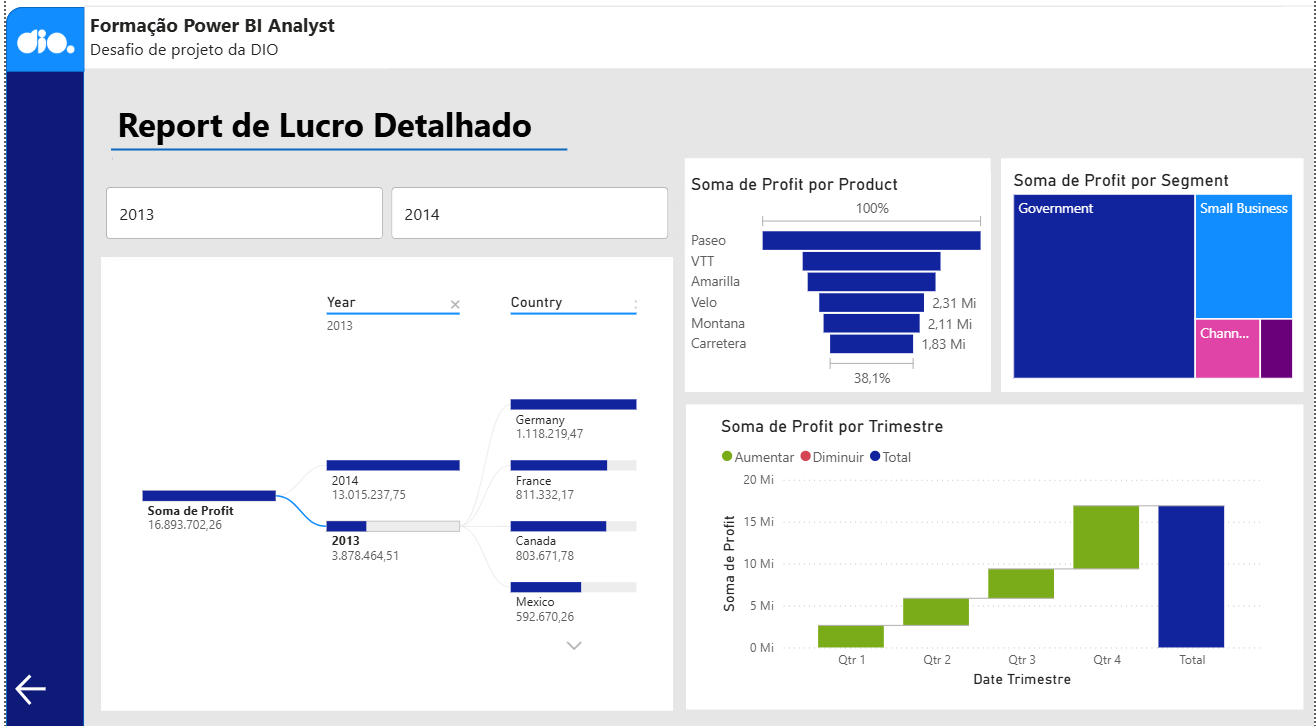

This screenshot's page, from the dashboard's own definition file:
{"tool":"powerbi","page":{"name":"Página 2","canvas":[1280,720],"ordinal":1},"visuals":[{"type":"shape","box":[77.2,13.7,1202.6,704.6],"z":0},{"type":"shape","box":[0,16.7,76.5,702.6],"z":1000},{"type":"shape","box":[104.3,147.7,374.9,29.8],"z":2000},{"type":"shape","box":[0,14.7,77,63.6],"z":3000},{"type":"image","box":[11,18.3,56.3,59.9],"z":4000},{"type":"shape","box":[76.6,15.1,1203.4,60.4],"z":5000},{"type":"textbox","box":[76.8,15.1,296.4,60.4],"z":6000},{"type":"textbox","box":[104.3,103,445.6,64.5],"z":7000},{"type":"shape","box":[102.7,140.6,446.3,26.9],"z":8000},{"type":"shape","box":[92.5,258.8,559.6,443.9],"z":9000},{"type":"shape","box":[665.2,403.5,604.1,298.4],"z":10000},{"type":"shape","box":[664,162.6,299.6,228.7],"z":11000},{"type":"shape","box":[973.4,162.6,295.9,228.7],"z":12000},{"type":"decompositionTreeVisual","fields":{"ExplainBy":["financials.Year","financials.Country"],"Analyze":["Sum(financials.Profit)"]},"box":[104.1,279.1,517.7,406.3],"z":13000},{"type":"waterfallChart","fields":{"Y":["Sum(financials.Profit)"],"Category":["financials.Date.Variation.Hierarquia de datas.Trimestre"]},"box":[694.1,415,537.9,270.4],"z":14000},{"type":"treemap","fields":{"Group":["financials.Segment"],"Values":["Sum(financials.Profit)"]},"box":[980.4,173.5,283.4,209.7],"z":15000},{"type":"funnel","fields":{"Y":["Sum(financials.Profit)"],"Category":["financials.Product"]},"box":[665.2,177.3,298.4,214],"z":16000},{"type":"advancedSlicerVisual","fields":{"Values":["financials.Year"]},"box":[92.9,185.9,560.1,61.1],"z":17000},{"type":"actionButton","box":[5,662.3,62.2,39.8],"z":18000}]}

Visuals, with their boxes on the page's 1280x720 design canvas (x1, y1, x2, y2). These are canvas units, not pixel positions in the 1316x726 screenshot, which may show the page scaled, cropped or inside an application window:
shape: crop(77, 14, 1280, 718)
shape: crop(0, 17, 76, 719)
shape: crop(104, 148, 479, 178)
shape: crop(0, 15, 77, 78)
image: crop(11, 18, 67, 78)
shape: crop(77, 15, 1280, 76)
textbox: crop(77, 15, 373, 76)
textbox: crop(104, 103, 550, 168)
shape: crop(103, 141, 549, 168)
shape: crop(92, 259, 652, 703)
shape: crop(665, 404, 1269, 702)
shape: crop(664, 163, 964, 391)
shape: crop(973, 163, 1269, 391)
decompositionTreeVisual - financials.Year x financials.Country: crop(104, 279, 622, 685)
waterfallChart - Sum(financials.Profit) x financials.Date.Variation.Hierarquia de datas.Trimestre: crop(694, 415, 1232, 685)
treemap - financials.Segment x Sum(financials.Profit): crop(980, 174, 1264, 383)
funnel - Sum(financials.Profit) x financials.Product: crop(665, 177, 964, 391)
advancedSlicerVisual - financials.Year: crop(93, 186, 653, 247)
actionButton: crop(5, 662, 67, 702)
